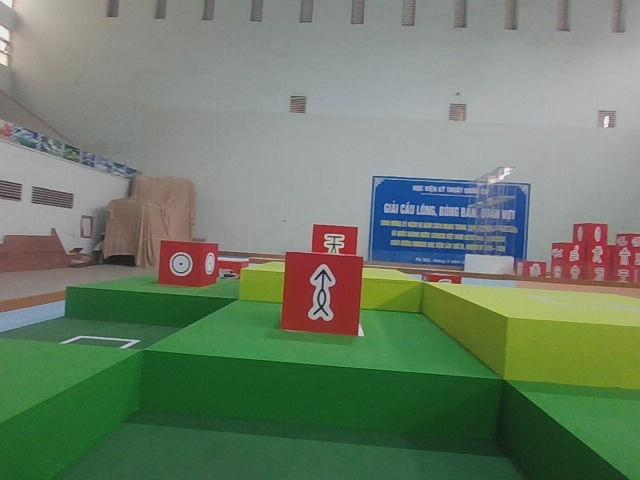R2 Real: (280, 247, 365, 339), (155, 238, 223, 287)
